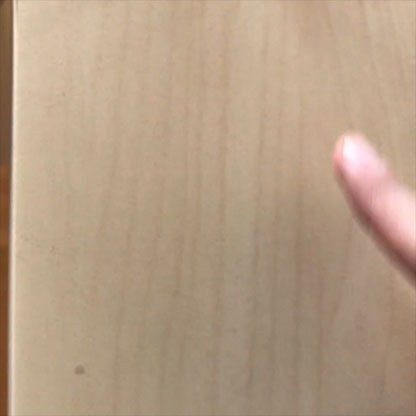fingertip: (332, 125, 387, 186)
